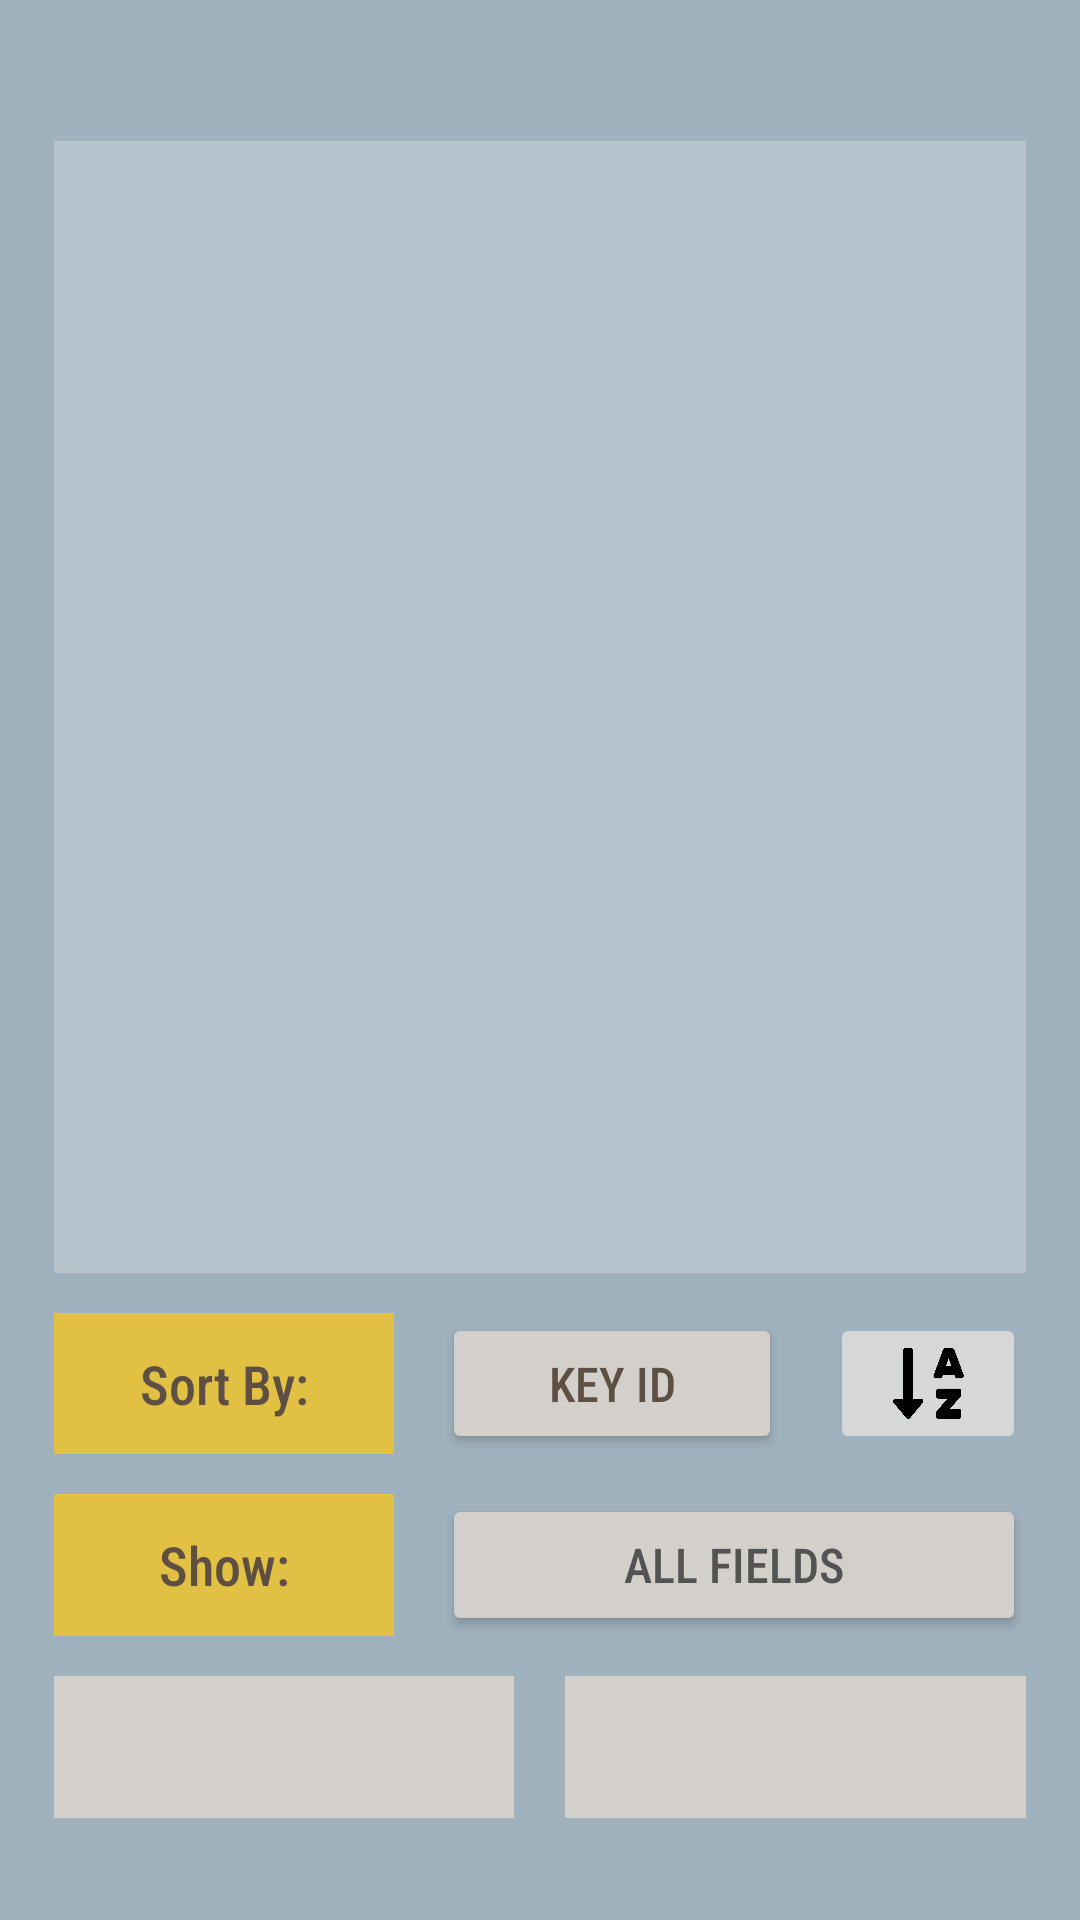

Screen size 1080px x 1920px. Icon name, then its box in pixels as bbox=[x1, y1, x2, y2]:
sort down inc: bbox=[842, 1331, 1014, 1436]
